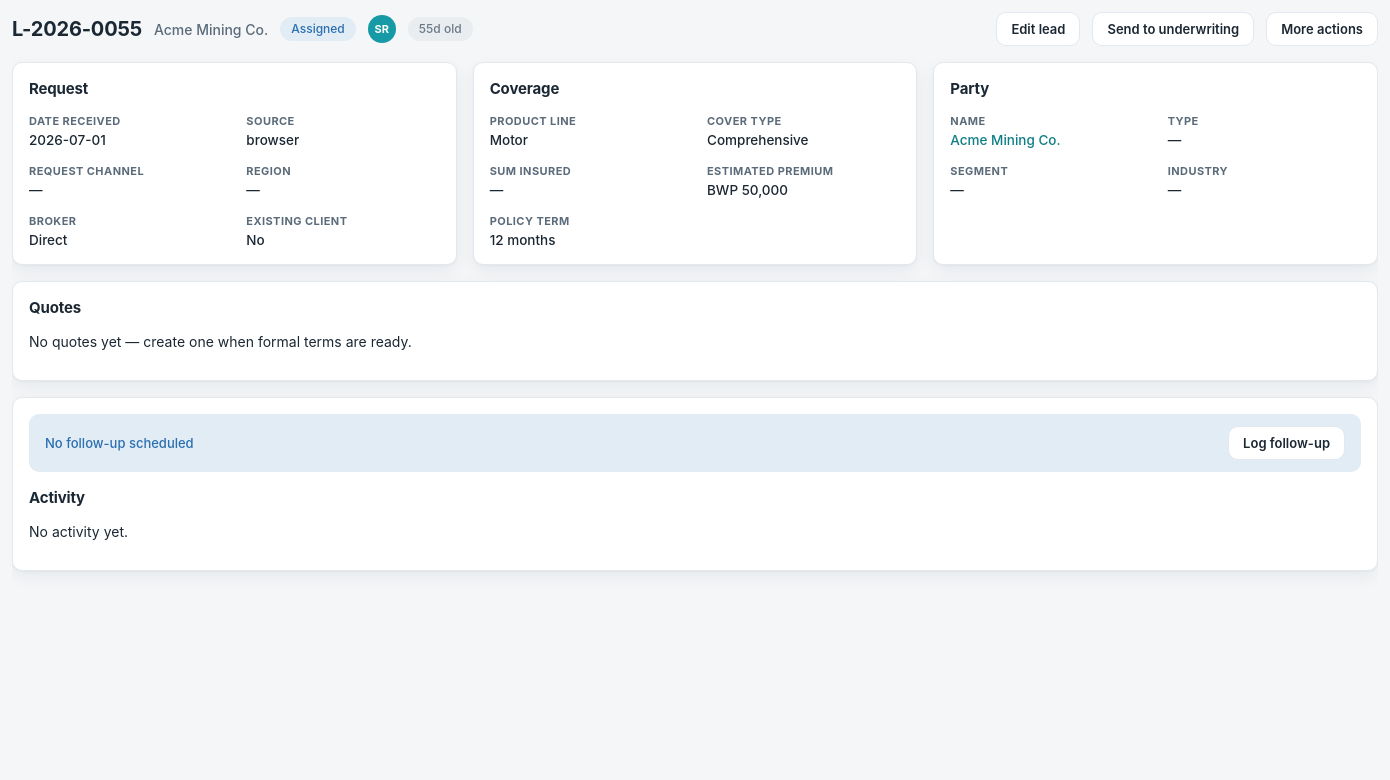
Test: LeadDetailPage › render_WhenLeadHasMultipleAvailableOperations_ShouldListNonPrimaryOnesInMoreActionsMenu
Expected: the element with test id "lead-header" is shown, [12,12,1378,46]
Click the button with test id "more-actions-trigger": (1322, 29) [1266,12,1378,46]
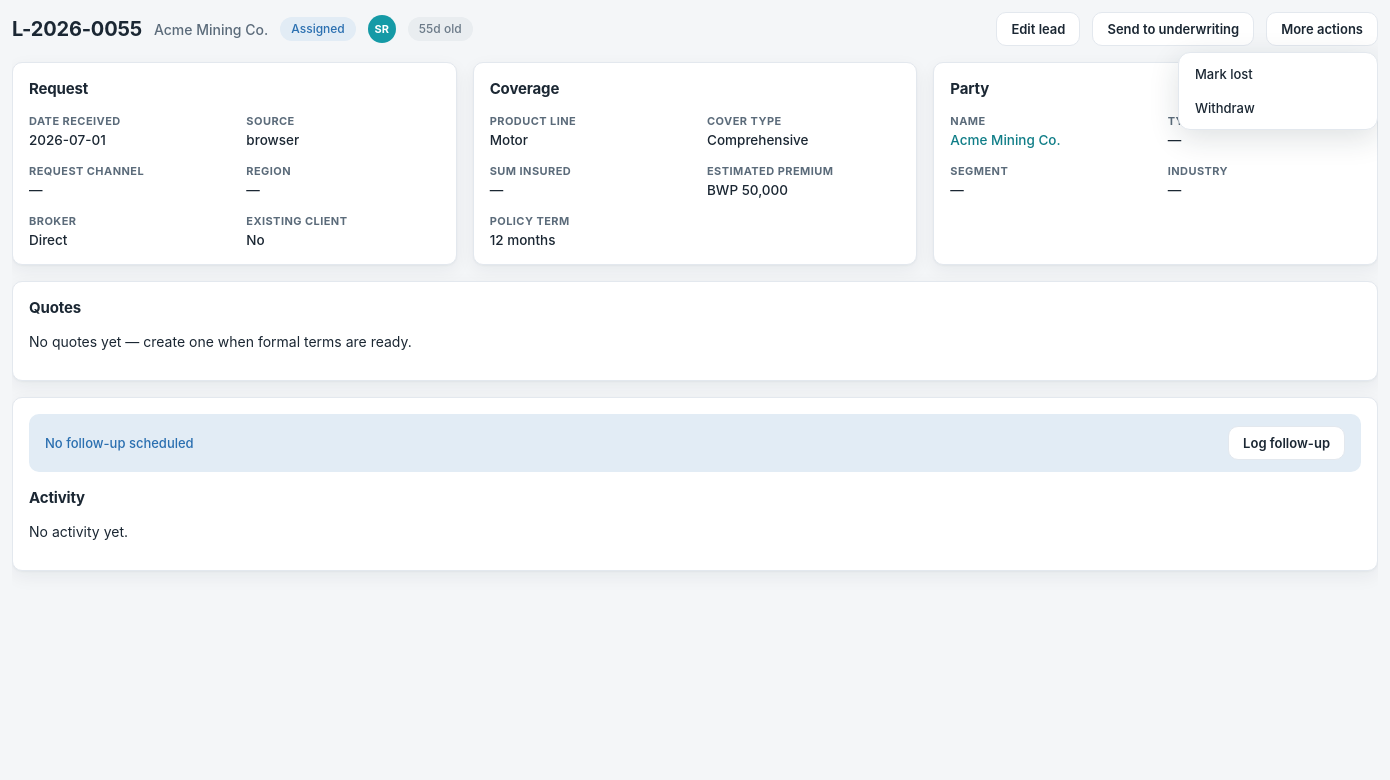
Now the menu item with test id "more-action-mark-lost" is shown, box [1183,57,1373,91]
Now the menu item with test id "more-action-withdraw" is shown, box [1183,91,1373,125]
